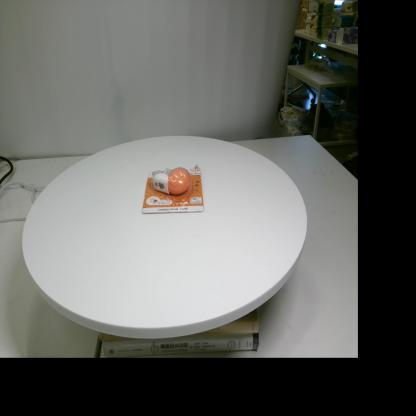Stationery: (142, 164, 204, 214)
